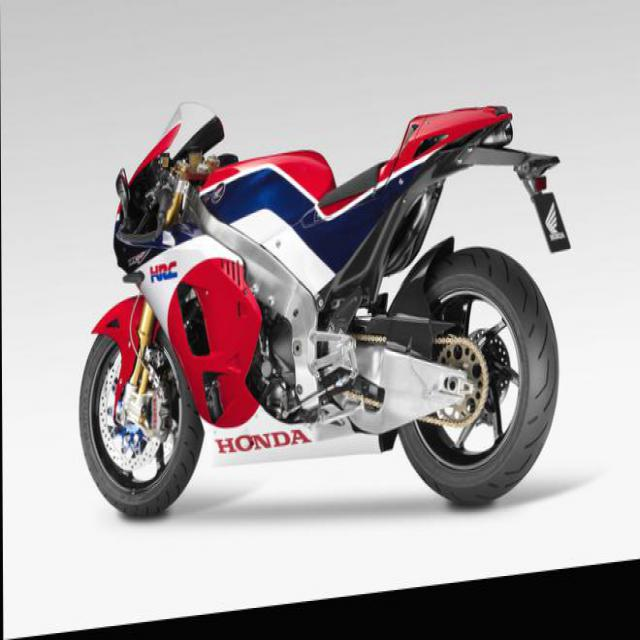HRC RCV 213: (77, 67, 572, 563)
